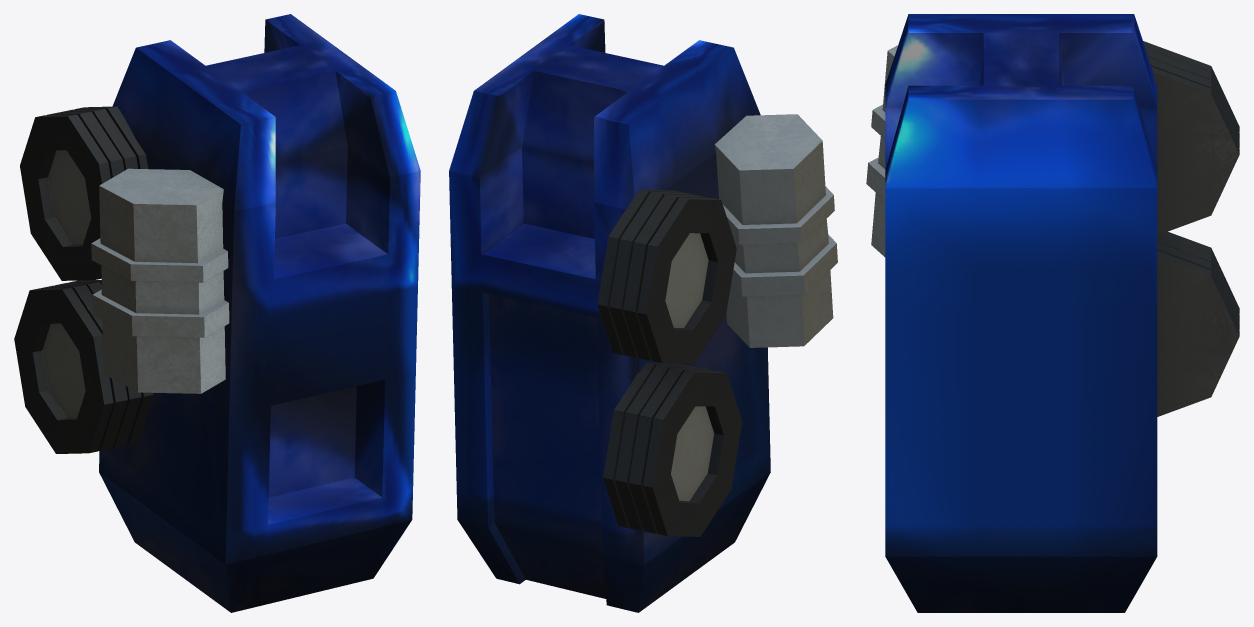
File: L_LEG2.obj
3 renders of one model, left to right at view 1: azimuth 30°, elevation 25°; view 2: azimuth 150°, elevation 25°; view 3: azimuth 270°, elevation 25°, orthographic. The views are drawn at different scales.
Parts seen in each view (by area): view 1: group6 group pasted__pCube12, pasted__pCylinder7 group6 group, group6 group pasted__pCylinder6, group6 group pasted__pCylinder5; view 2: group6 group pasted__pCube12, pasted__pCylinder7 group6 group, group6 group pasted__pCylinder5, group6 group pasted__pCylinder6; view 3: group6 group pasted__pCube12, group6 group pasted__pCylinder5, group6 group pasted__pCylinder6, pasted__pCylinder7 group6 group.
Boxes of the visible parts, box(x1,y1,x2,y2) form: group6 group pasted__pCube12: box(99, 14, 420, 612); pasted__pCylinder7 group6 group: box(91, 168, 229, 393); group6 group pasted__pCylinder6: box(14, 280, 153, 453); group6 group pasted__pCylinder5: box(20, 106, 148, 280); group6 group pasted__pCube12: box(449, 14, 770, 612); pasted__pCylinder7 group6 group: box(714, 114, 837, 347); group6 group pasted__pCylinder5: box(597, 189, 736, 363); group6 group pasted__pCylinder6: box(603, 362, 742, 536); group6 group pasted__pCube12: box(885, 14, 1157, 612); group6 group pasted__pCylinder5: box(1143, 41, 1239, 235); group6 group pasted__pCylinder6: box(1157, 231, 1239, 416); pasted__pCylinder7 group6 group: box(866, 45, 898, 257).
Bounding box in the file's own units: 1.54 × 2.59 × 1.66.
1 material, 1 textured.
